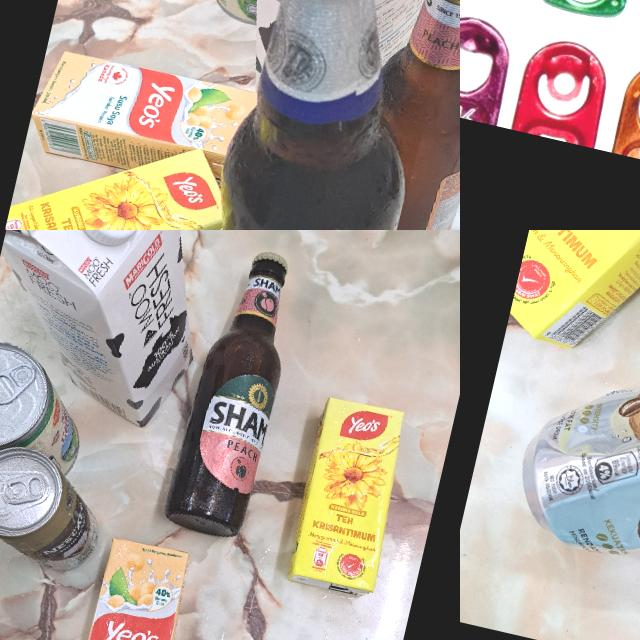aba de lata: (510, 31, 616, 148), (460, 6, 520, 125), (609, 52, 640, 170), (0, 462, 51, 513), (0, 352, 36, 412)
caixinha: (0, 230, 234, 433), (25, 46, 256, 194), (0, 111, 245, 230), (284, 390, 416, 603), (212, 0, 455, 99), (503, 230, 640, 386), (61, 530, 194, 640)
garrafa de vidro: (173, 0, 460, 230), (160, 245, 304, 543), (334, 0, 460, 230)
lata: (505, 292, 640, 609), (0, 436, 110, 576), (0, 337, 98, 488)
tampa plástica: (68, 230, 149, 254)
